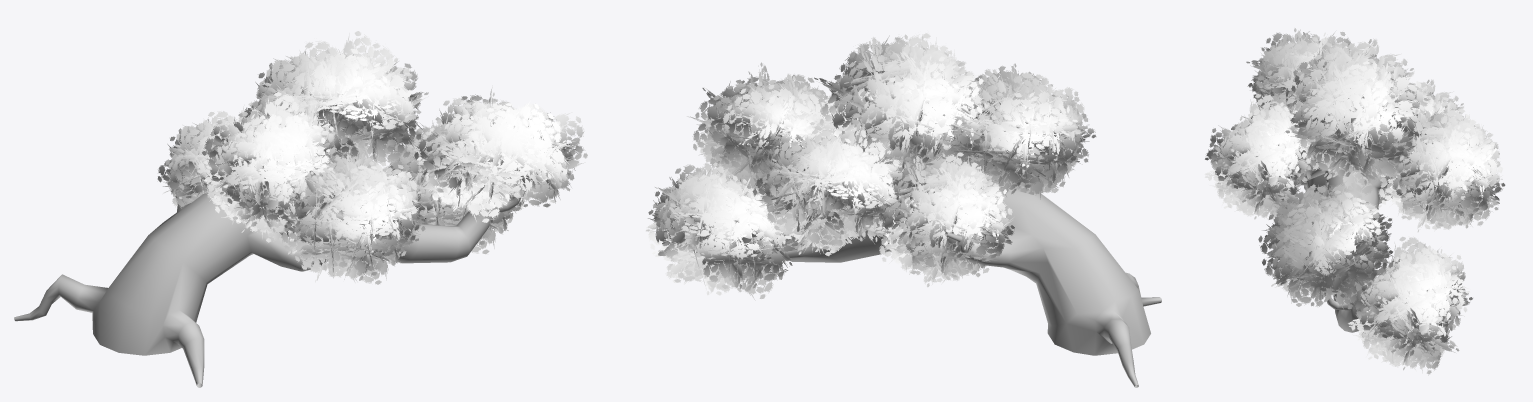
The model's file is hgs_ts06.fbx.
3 views of the same model, side by side, from view 1: azimuth 30°, elevation 25°; view 2: azimuth 150°, elevation 25°; view 3: azimuth 270°, elevation 25° (orthographic). The views are drawn at different scales.
Visible parts, largest first — view 1: yz01, sg01; view 2: yz01, sg01; view 3: yz01, sg01.
Boxes of the visible parts, x1,y1,x2,y2 form: yz01: (157,31,587,284); sg01: (14,193,521,387); yz01: (646,33,1096,300); sg01: (740,175,1161,387); yz01: (1204,28,1505,375); sg01: (1297,155,1418,332).
Bounding box in the file's own units: 42.01 × 23.39 × 24.68.
